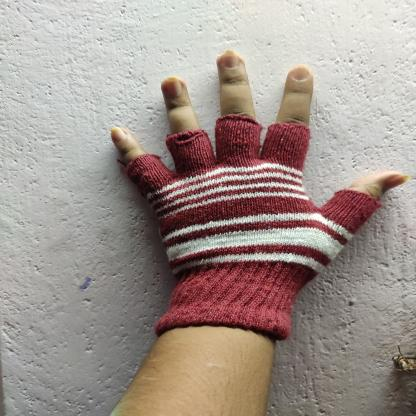gloved_hand: (121, 114, 379, 342), (390, 113, 391, 114)
